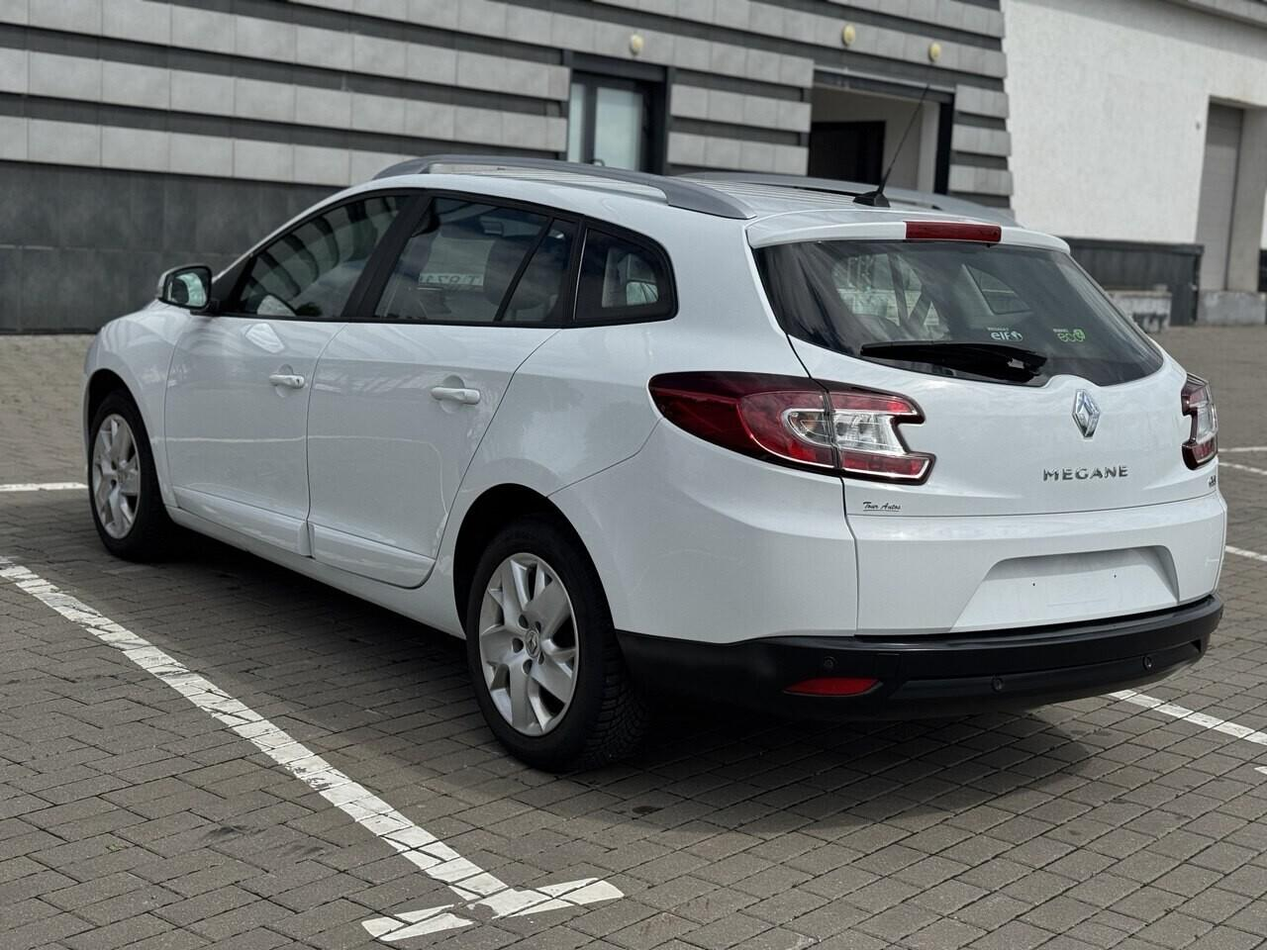Megane_2012-2014: (80, 162, 1221, 776)
